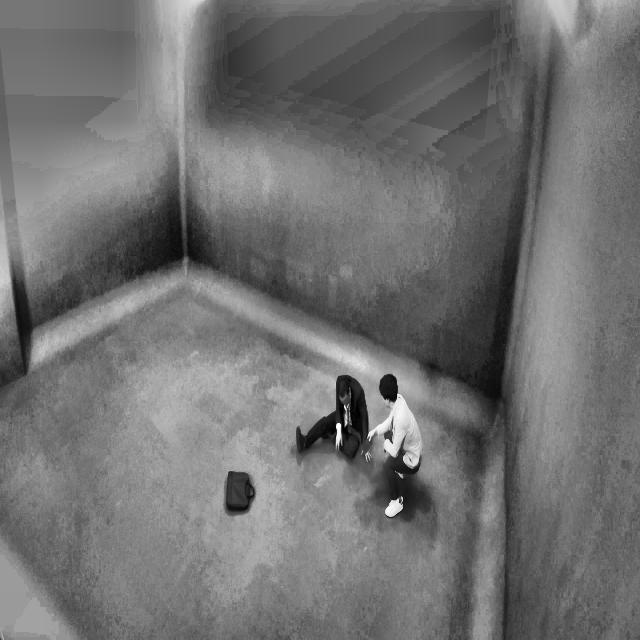assult: (291, 362, 433, 520)
